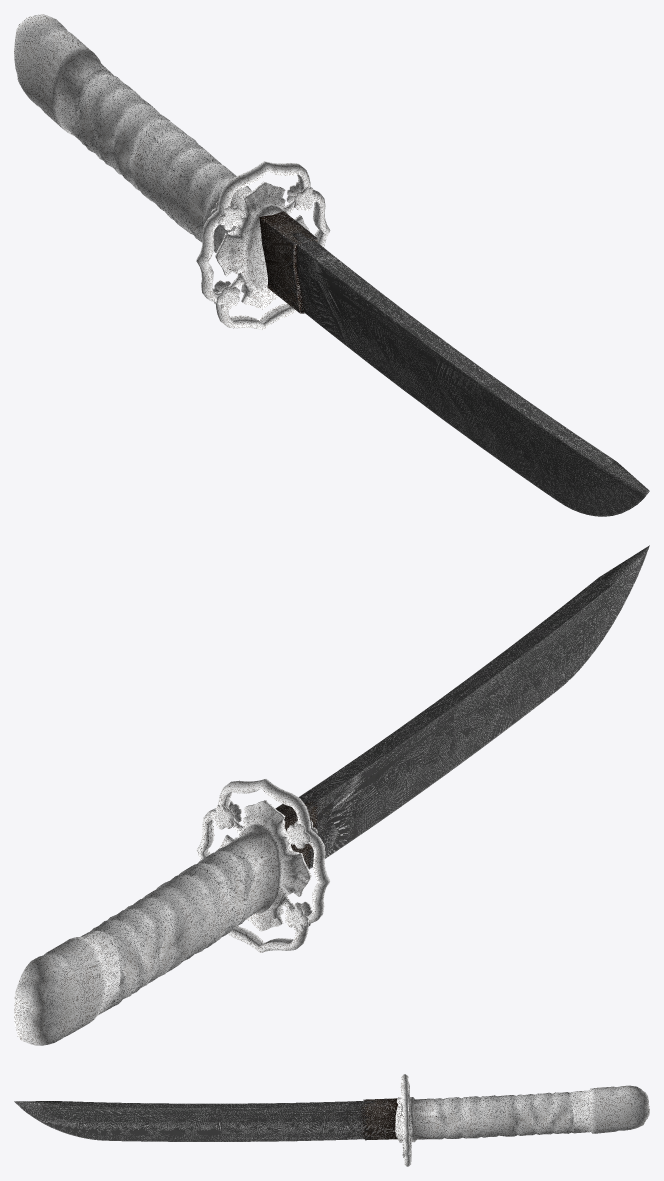
File: model_scale.obj
The picture shows the model from 3 angles, top to bottom: view 1: azimuth 30°, elevation 25°; view 2: azimuth 150°, elevation 25°; view 3: azimuth 270°, elevation 25°; orthographic projection. The views are drawn at different scales.
Parts seen in each view (by area): view 1: mesh1_mesh1-geometry, mesh10_mesh10-geometry; view 2: mesh10_mesh10-geometry, mesh1_mesh1-geometry; view 3: mesh1_mesh1-geometry, mesh10_mesh10-geometry.
Part boxes in pixels (<box>): mesh1_mesh1-geometry: <box>259,211,649,516</box>; mesh10_mesh10-geometry: <box>14,14,330,330</box>; mesh10_mesh10-geometry: <box>14,779,330,1045</box>; mesh1_mesh1-geometry: <box>275,545,649,869</box>; mesh1_mesh1-geometry: <box>14,1098,397,1141</box>; mesh10_mesh10-geometry: <box>395,1074,649,1166</box>.
Size of the model in its own units: 0.027 by 0.0333 by 0.2218.
3 materials, 2 textured.
